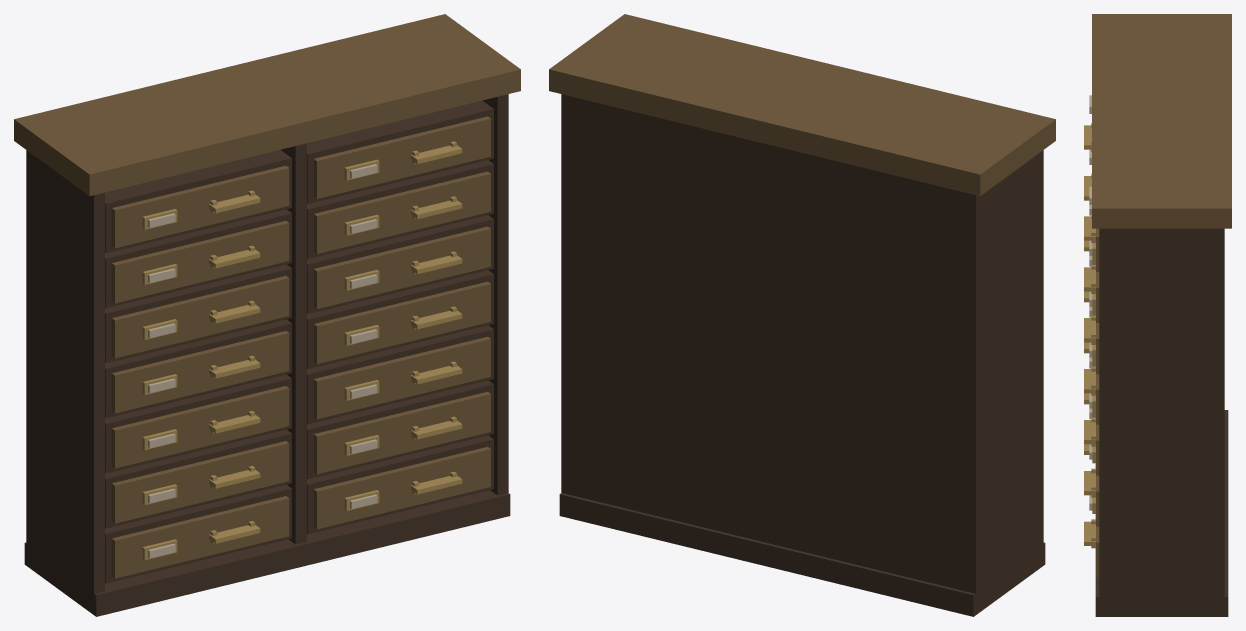
Rendered from archiveCabinet.glb.
The picture shows the model from 3 angles, left to right: view 1: azimuth 30°, elevation 25°; view 2: azimuth 150°, elevation 25°; view 3: azimuth 270°, elevation 25°; orthographic projection. The views are drawn at different scales.
Visible parts, largest first — view 1: Oak archive cabinet with labelled drawers; view 2: Oak archive cabinet with labelled drawers; view 3: Oak archive cabinet with labelled drawers.
Part boxes in pixels (x1,y1,x2,y2): Oak archive cabinet with labelled drawers: (14,14,520,616); Oak archive cabinet with labelled drawers: (549,14,1055,616); Oak archive cabinet with labelled drawers: (1084,14,1231,616).
Size of the model in its own units: 2.5 by 2.47 by 0.8025.
